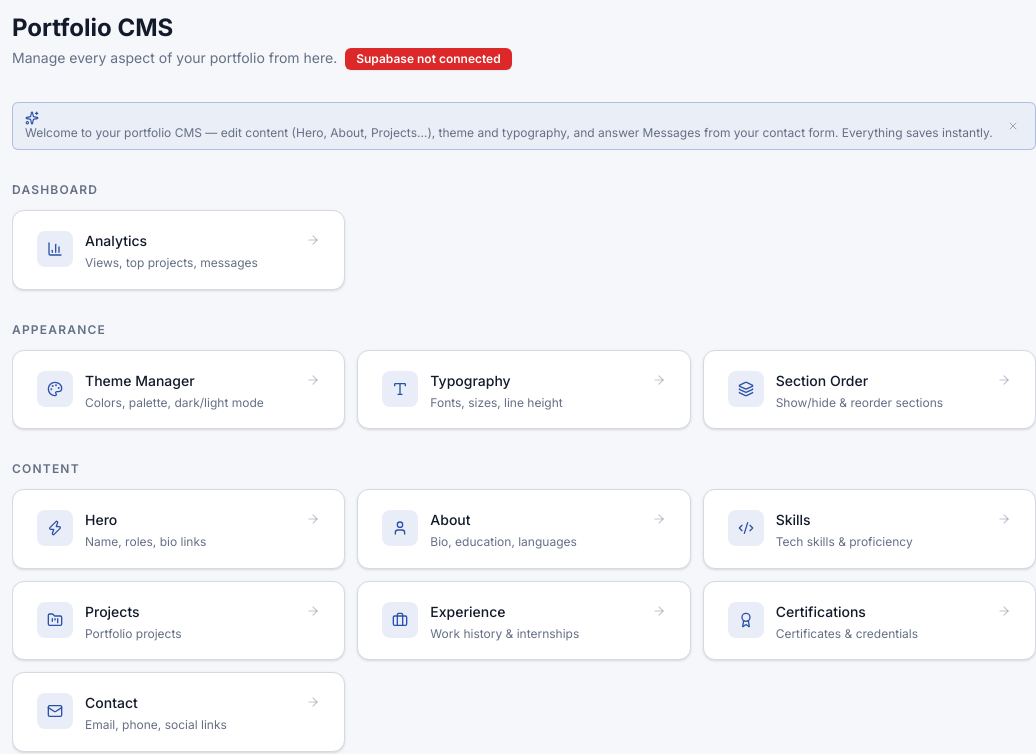
Overview › dismissing the welcome nudge hides it permanently
Click the button named "Dismiss welcome tip" at (1013, 126), box x1=1003 y1=116 x2=1023 y2=136
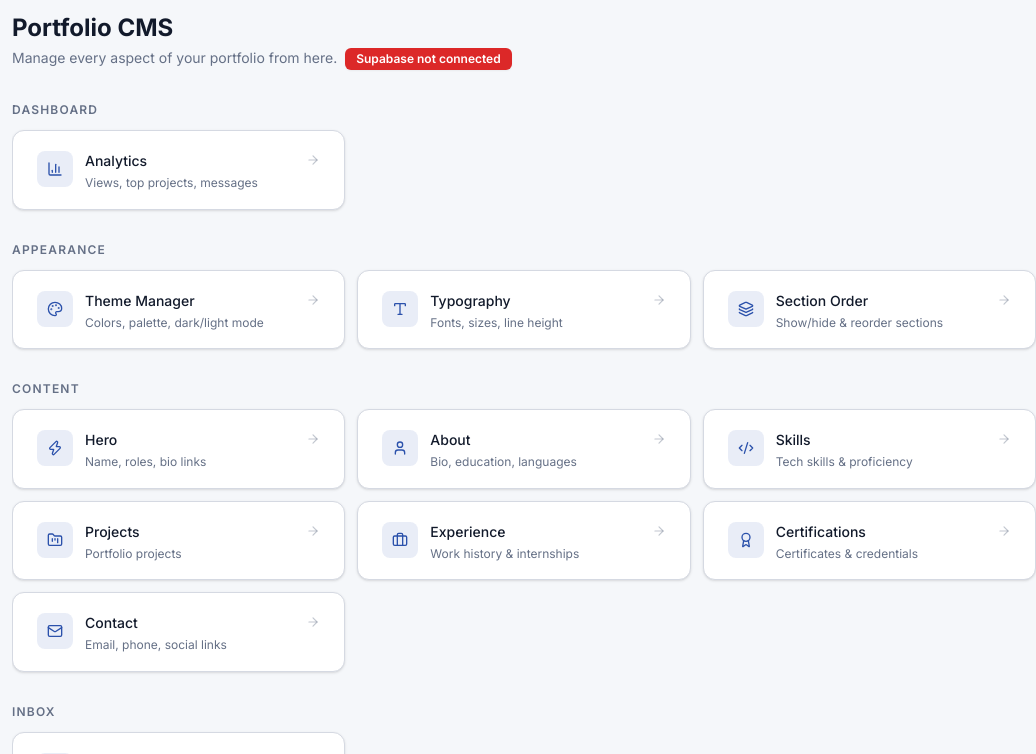
Expected: the message is gone
